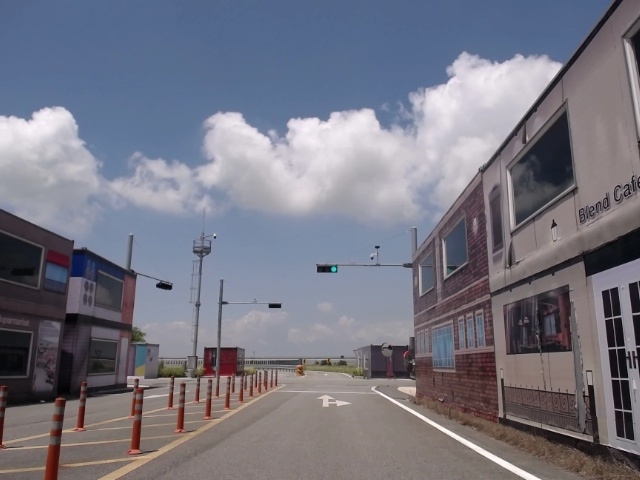green_3: (319, 266, 336, 272)
